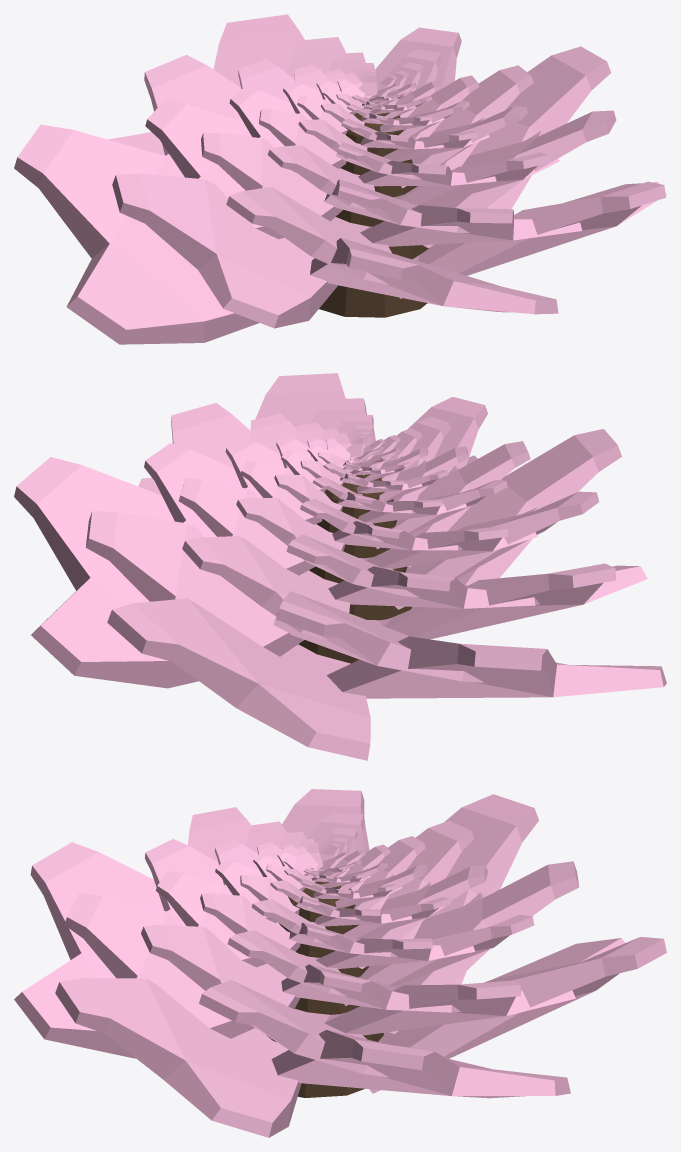
The model's file is Plant.glb.
The picture shows the model from 3 angles, top to bottom: view 1: azimuth 30°, elevation 25°; view 2: azimuth 150°, elevation 25°; view 3: azimuth 270°, elevation 25°; orthographic projection. The views are drawn at different scales.
Parts seen in each view (by area): view 1: Plant; view 2: Plant; view 3: Plant.
Part boxes in pixels (box(x1,y1,x2,y2)): Plant: box(14, 14, 666, 344); Plant: box(14, 373, 666, 760); Plant: box(14, 789, 666, 1137).
Bounding box in the file's own units: 0.8415 × 0.2865 × 0.8091.
